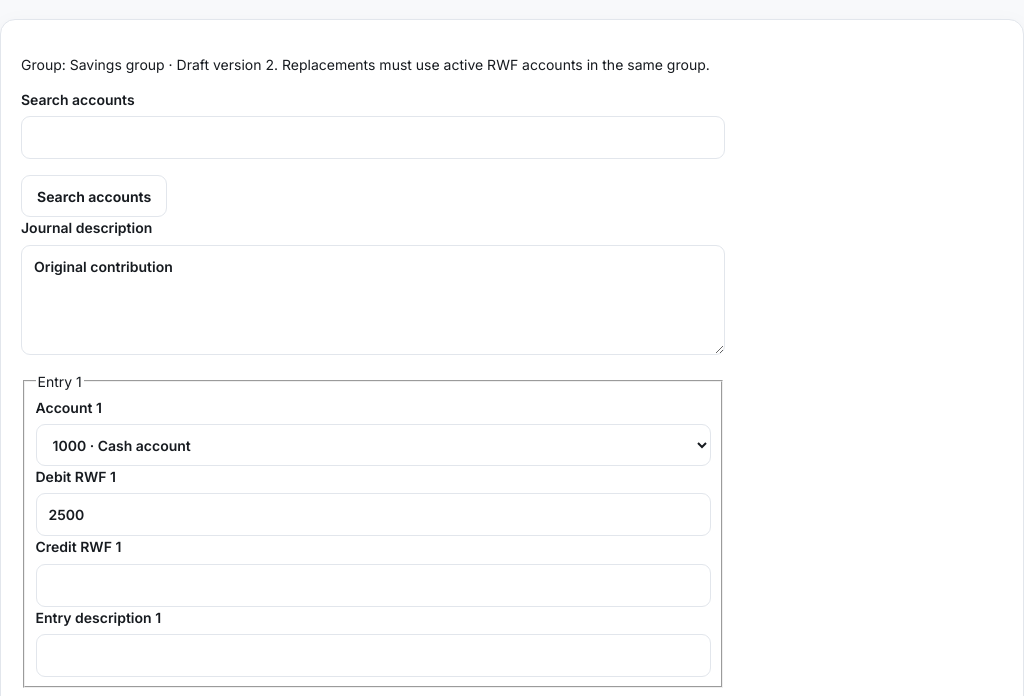
Test: legacy journal draft replacement › shows original and replacement entries and verifies the exact PATCH receipt and scope
Replace the text in the text box labelled "Journal description" with "Revised contribution" at [373, 300], box [21, 245, 725, 355]
Replace the text in the field labelled "Debit RWF 1" with "3000" at [373, 515], box [36, 494, 710, 536]
(page scrolled)
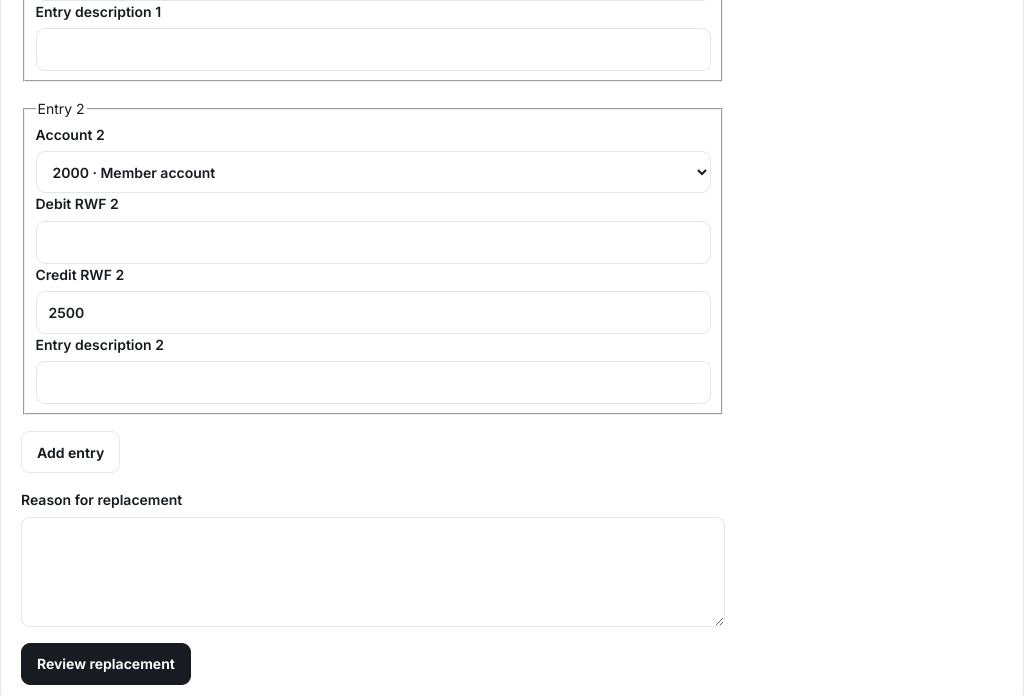
Replace the text in the field labelled "Credit RWF 2" with "3000" at [373, 313], box [36, 291, 710, 334]
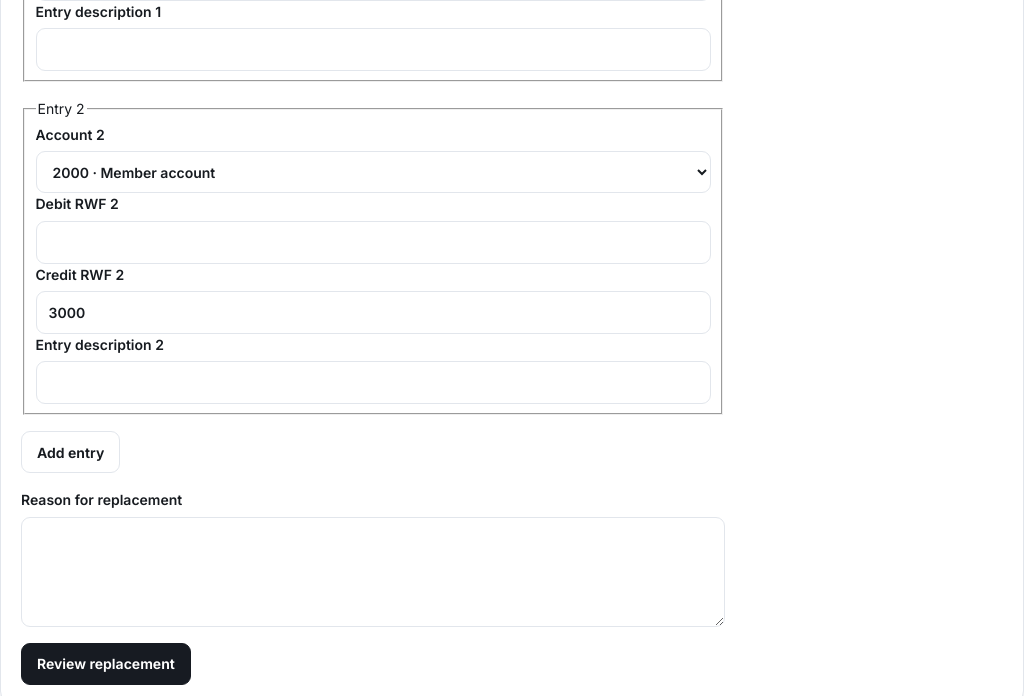
Type "Replace reviewed draft" into the text box labelled "Reason for replacement" at [373, 572], box [21, 517, 725, 627]
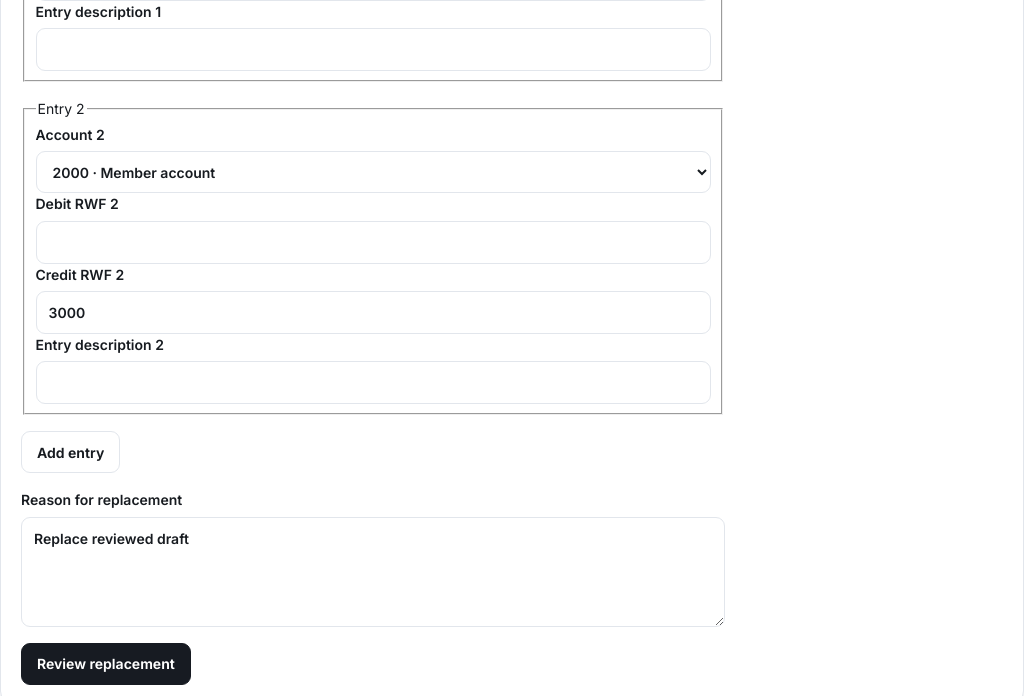
Click the button "Review replacement" at [106, 664], box [21, 643, 191, 685]
(page scrolled)
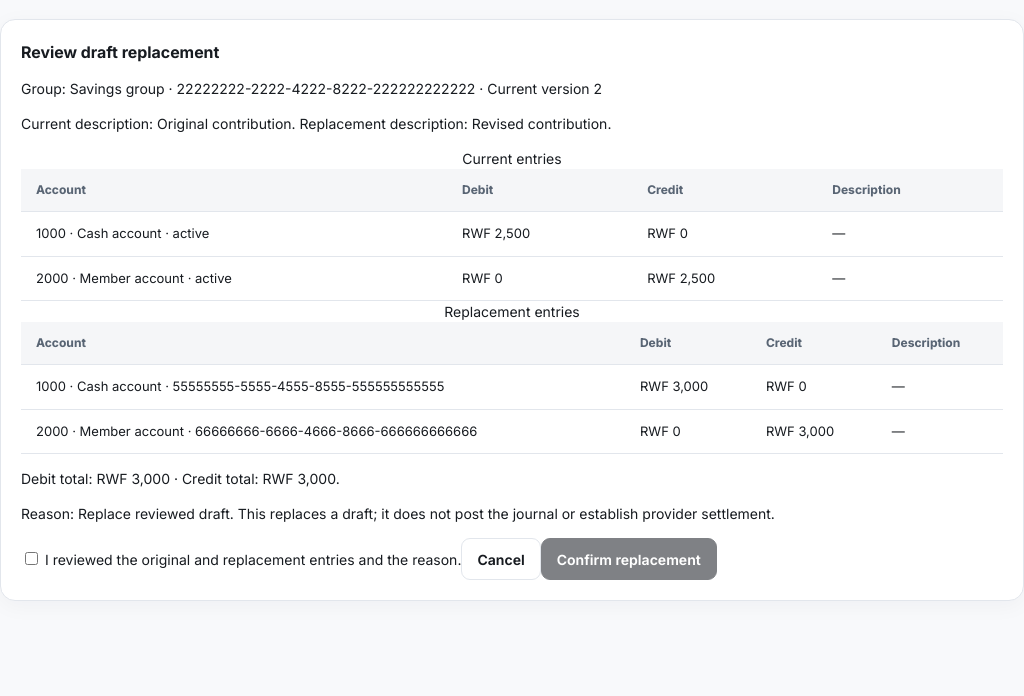
Result: the text "Current description: Original contribution" is shown at [21, 115, 611, 132]
Result: the element named "Current journal entries" shows "RWF 2,500" at [462, 225, 530, 241]
Result: the element named "Replacement journal entries" shows "RWF 3,000" at [640, 378, 708, 394]
Click the checkbox at [32, 558], box [25, 552, 38, 564]
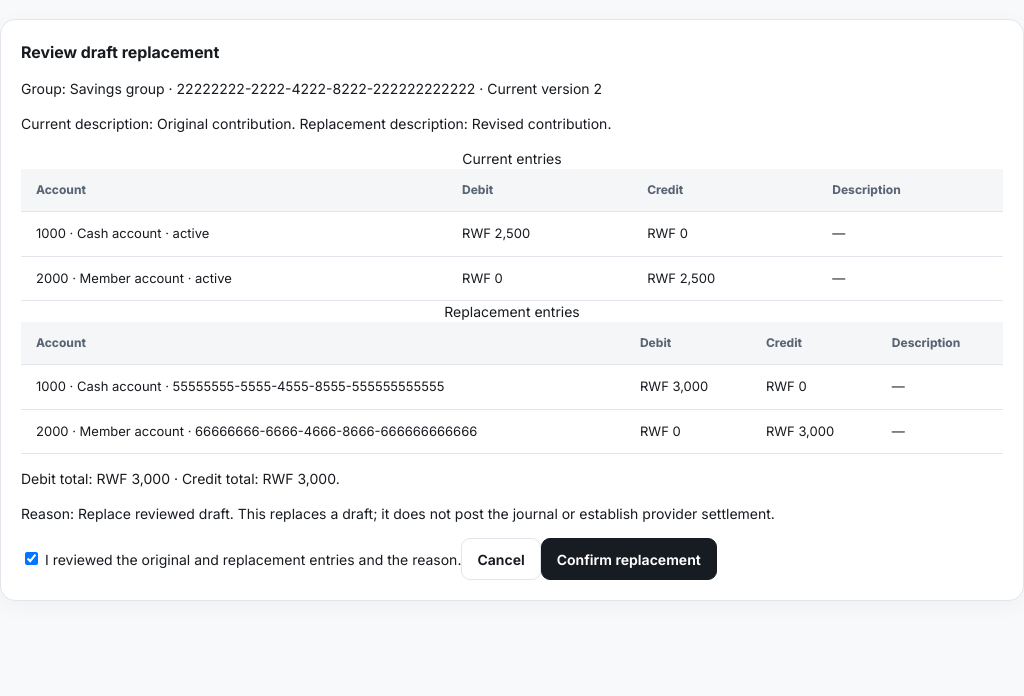
Click the button "Confirm replacement" at [629, 559], box [541, 538, 717, 580]
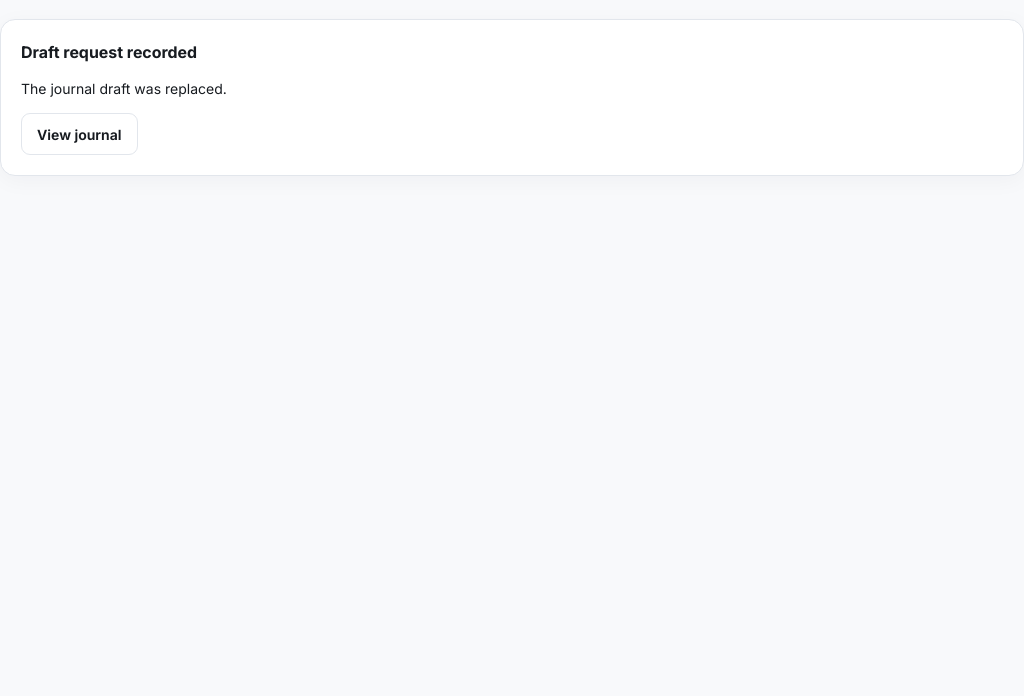
Result: the text "The journal draft was replaced." is shown at [21, 80, 227, 97]
